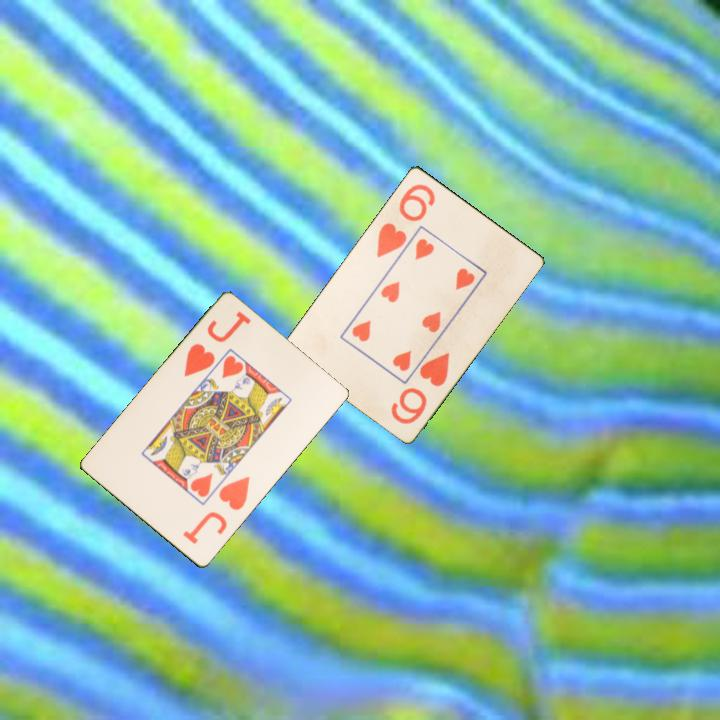6h: (387, 348, 453, 427), (373, 180, 438, 260)
Jh: (179, 473, 253, 548), (180, 340, 218, 380)
